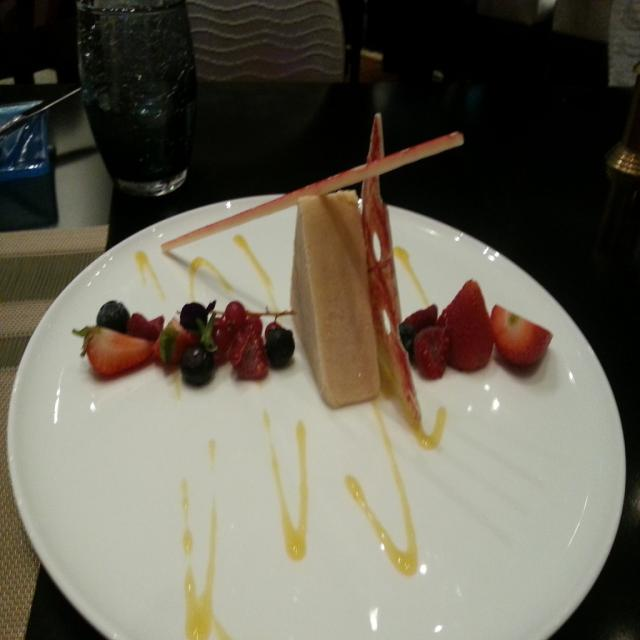Healty Apple: (491, 302, 551, 369)
